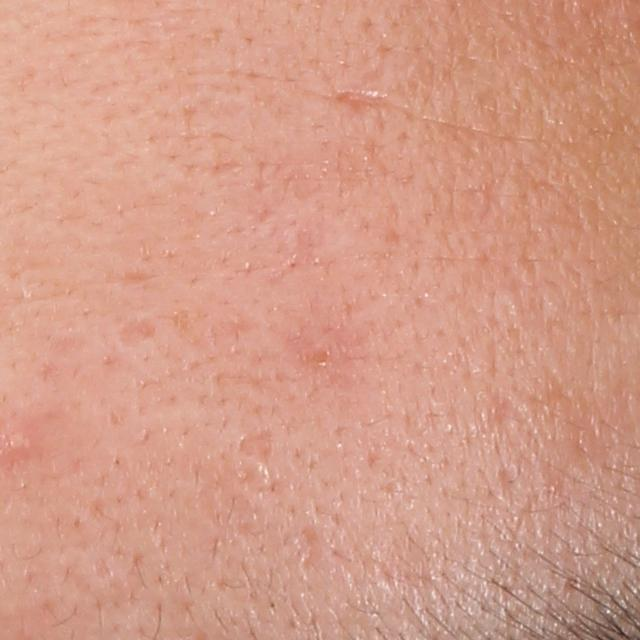atrophic_scar: (339, 82, 388, 113), (236, 426, 274, 464), (115, 319, 156, 345)
